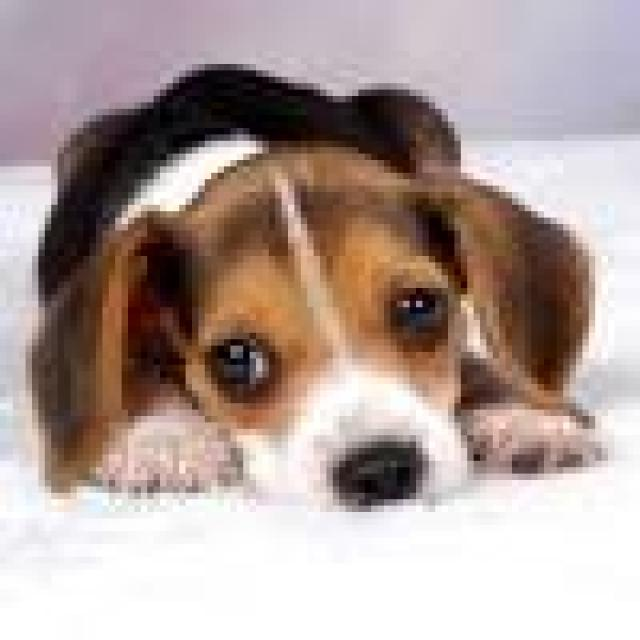Dog: (26, 62, 605, 520)
